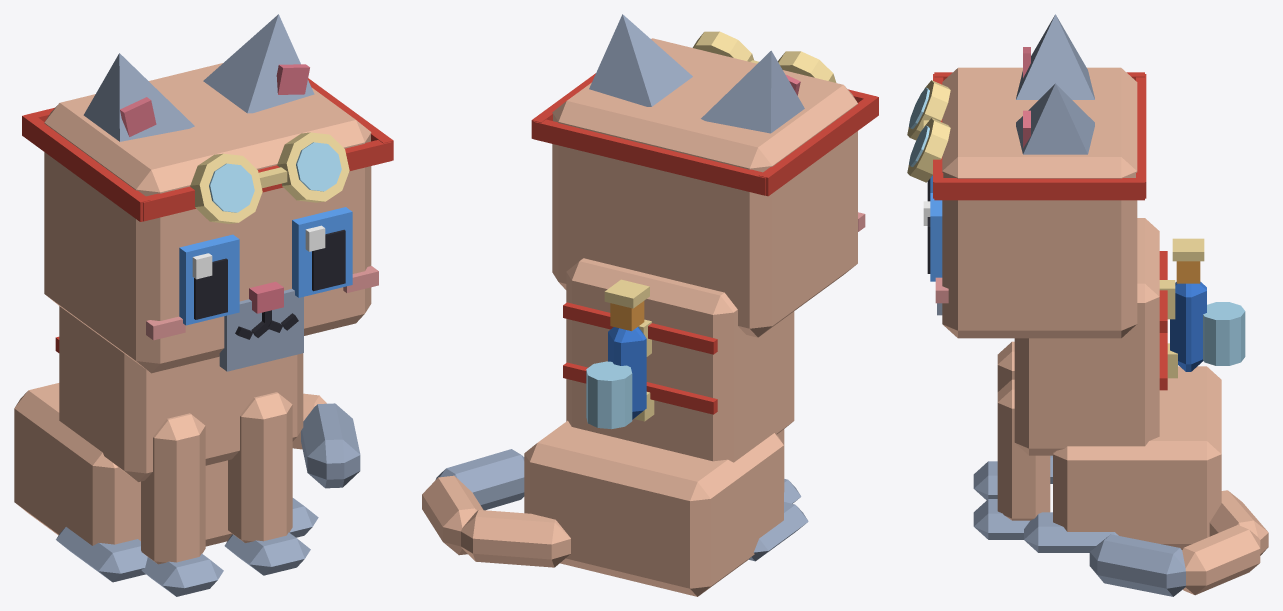
File: CatCafe_Cat_WaterGun_Sit.glb
3 renders of one model, left to right at view 1: azimuth 30°, elevation 25°; view 2: azimuth 150°, elevation 25°; view 3: azimuth 270°, elevation 25°, orthographic. The views are drawn at different scales.
Parts seen in each view (by area): view 1: CatCafe_Cat_WaterGun_Sit_Head, CatCafe_Cat_WaterGun_Sit_Body, CatCafe_Cat_WaterGun_Sit_Prop2, CatCafe_Cat_WaterGun_Sit_LegF1, CatCafe_Cat_WaterGun_Sit_LegF2, CatCafe_Cat_WaterGun_Sit_EarL, CatCafe_Cat_WaterGun_Sit_EarR, CatCafe_Cat_WaterGun_Sit_Eye1, CatCafe_Cat_WaterGun_Sit_Eye2, CatCafe_Cat_WaterGun_Sit_Tail; view 2: CatCafe_Cat_WaterGun_Sit_Body, CatCafe_Cat_WaterGun_Sit_Head, CatCafe_Cat_WaterGun_Sit_Prop2, CatCafe_Cat_WaterGun_Sit_Tail, CatCafe_Cat_WaterGun_Sit_Prop, CatCafe_Cat_WaterGun_Sit_EarL, CatCafe_Cat_WaterGun_Sit_EarR, CatCafe_Cat_WaterGun_Sit_Tank_Glow; view 3: CatCafe_Cat_WaterGun_Sit_Head, CatCafe_Cat_WaterGun_Sit_Body, CatCafe_Cat_WaterGun_Sit_Tail, CatCafe_Cat_WaterGun_Sit_Prop2, CatCafe_Cat_WaterGun_Sit_LegF1, CatCafe_Cat_WaterGun_Sit_Prop, CatCafe_Cat_WaterGun_Sit_EarL, CatCafe_Cat_WaterGun_Sit_EarR, CatCafe_Cat_WaterGun_Sit_Tank_Glow, CatCafe_Cat_WaterGun_Sit_LegF2, CatCafe_Cat_WaterGun_Sit_Eye1.
Boxes of the visible parts, x1=… form: CatCafe_Cat_WaterGun_Sit_Head: x1=44, y1=63, x2=378, y2=373; CatCafe_Cat_WaterGun_Sit_Body: x1=14, y1=306, x2=318, y2=582; CatCafe_Cat_WaterGun_Sit_Prop2: x1=22, y1=78, x2=393, y2=223; CatCafe_Cat_WaterGun_Sit_LegF1: x1=224, y1=392, x2=310, y2=575; CatCafe_Cat_WaterGun_Sit_LegF2: x1=141, y1=413, x2=223, y2=596; CatCafe_Cat_WaterGun_Sit_EarL: x1=203, y1=14, x2=314, y2=113; CatCafe_Cat_WaterGun_Sit_EarR: x1=83, y1=53, x2=194, y2=141; CatCafe_Cat_WaterGun_Sit_Eye1: x1=292, y1=207, x2=352, y2=297; CatCafe_Cat_WaterGun_Sit_Eye2: x1=179, y1=234, x2=239, y2=325; CatCafe_Cat_WaterGun_Sit_Tail: x1=292, y1=393, x2=360, y2=488; CatCafe_Cat_WaterGun_Sit_Body: x1=524, y1=258, x2=808, y2=596; CatCafe_Cat_WaterGun_Sit_Head: x1=552, y1=38, x2=865, y2=337; CatCafe_Cat_WaterGun_Sit_Prop2: x1=531, y1=31, x2=878, y2=196; CatCafe_Cat_WaterGun_Sit_Tail: x1=422, y1=449, x2=570, y2=567; CatCafe_Cat_WaterGun_Sit_Prop: x1=563, y1=279, x2=717, y2=421; CatCafe_Cat_WaterGun_Sit_EarL: x1=589, y1=14, x2=692, y2=106; CatCafe_Cat_WaterGun_Sit_EarR: x1=701, y1=50, x2=804, y2=133; CatCafe_Cat_WaterGun_Sit_Tank_Glow: x1=586, y1=361, x2=632, y2=429; CatCafe_Cat_WaterGun_Sit_Head: x1=935, y1=67, x2=1137, y2=338; CatCafe_Cat_WaterGun_Sit_Body: x1=1014, y1=218, x2=1221, y2=552; CatCafe_Cat_WaterGun_Sit_Tail: x1=1089, y1=490, x2=1268, y2=596; CatCafe_Cat_WaterGun_Sit_Prop2: x1=907, y1=72, x2=1146, y2=200; CatCafe_Cat_WaterGun_Sit_LegF1: x1=973, y1=379, x2=1050, y2=539; CatCafe_Cat_WaterGun_Sit_Prop: x1=1159, y1=238, x2=1206, y2=390; CatCafe_Cat_WaterGun_Sit_EarL: x1=1016, y1=83, x2=1094, y2=154; CatCafe_Cat_WaterGun_Sit_EarR: x1=1016, y1=14, x2=1094, y2=99; CatCafe_Cat_WaterGun_Sit_Tank_Glow: x1=1203, y1=302, x2=1245, y2=365; CatCafe_Cat_WaterGun_Sit_LegF2: x1=973, y1=341, x2=1014, y2=500; CatCafe_Cat_WaterGun_Sit_Eye1: x1=923, y1=193, x2=942, y2=281.
Bounding box in the file's own units: 1.27 × 1.85 × 1.3.
1 material, 1 textured.
